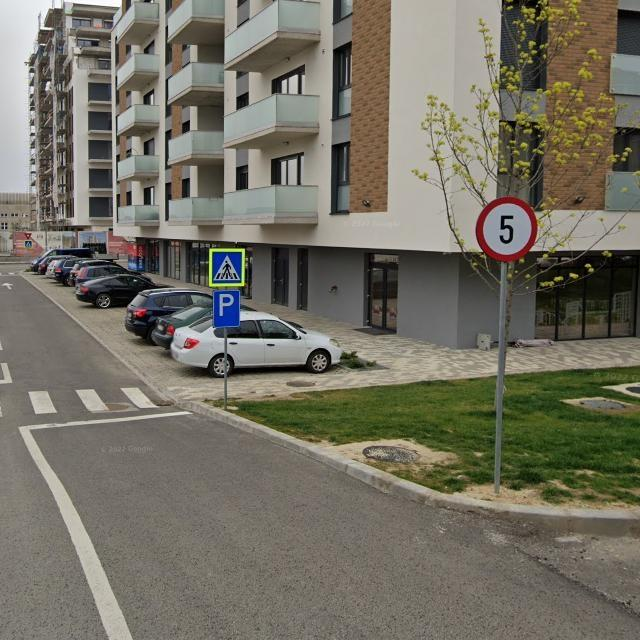info_crosswalk: (208, 248, 246, 289)
